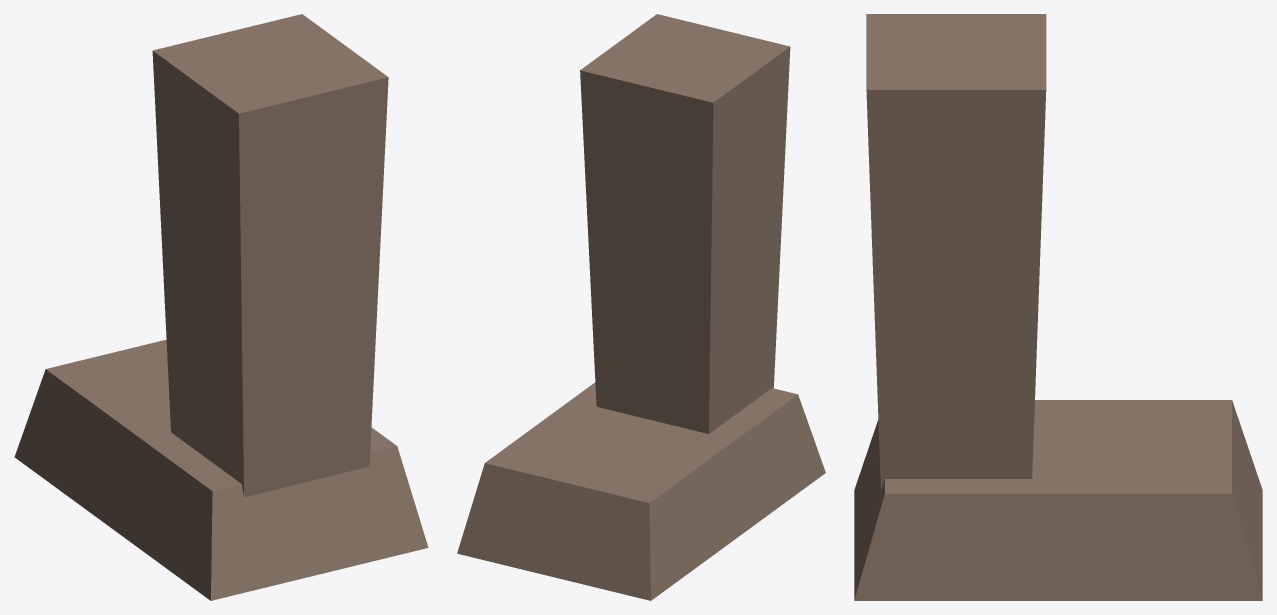
Rendered from animal_quail_leg.obj.
The picture shows the model from 3 angles, left to right: view 1: azimuth 30°, elevation 25°; view 2: azimuth 150°, elevation 25°; view 3: azimuth 270°, elevation 25°; orthographic projection. The views are drawn at different scales.
Visible parts, largest first — view 1: animal_quail_leg; view 2: animal_quail_leg; view 3: animal_quail_leg.
Part boxes in pixels (<box>): animal_quail_leg: <box>14,14,428,600</box>; animal_quail_leg: <box>457,14,825,600</box>; animal_quail_leg: <box>854,14,1262,600</box>.
Bounding box in the file's own units: 0.0384 × 0.08 × 0.06.
